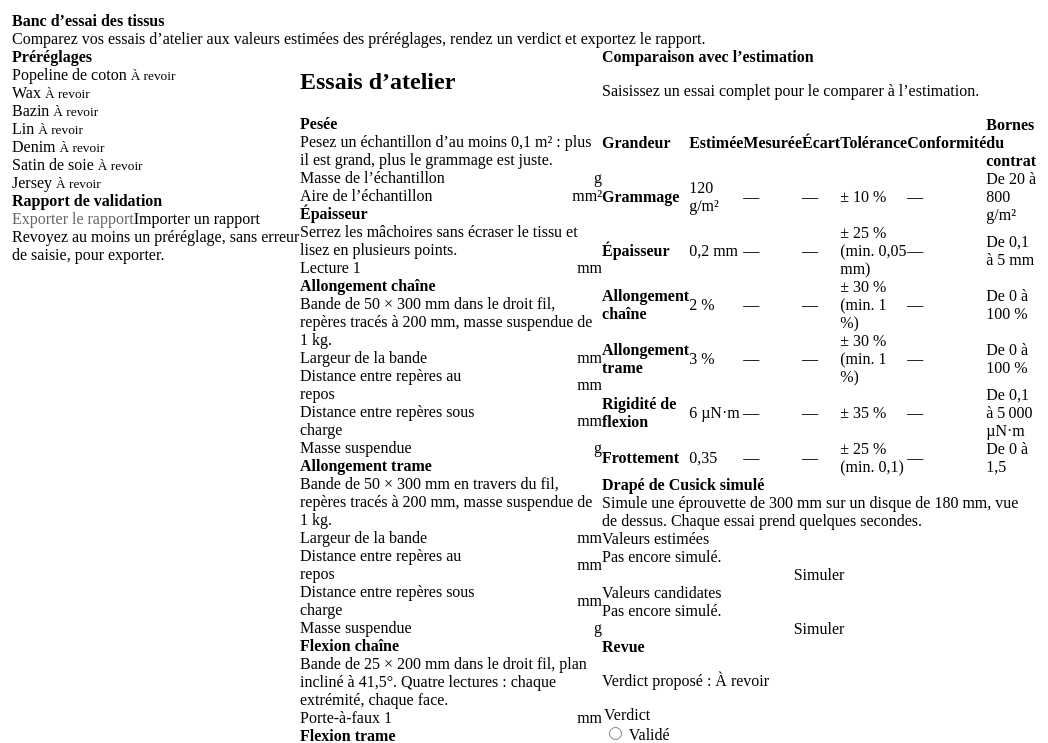
Test: banc d’essai des tissus : essais saisis › champ vidé après essai commencé : valeur obligatoire
Type "12" into the number field labelled "Masse de l’échantillon". click: (542, 178)
box: [494,169,590,187]
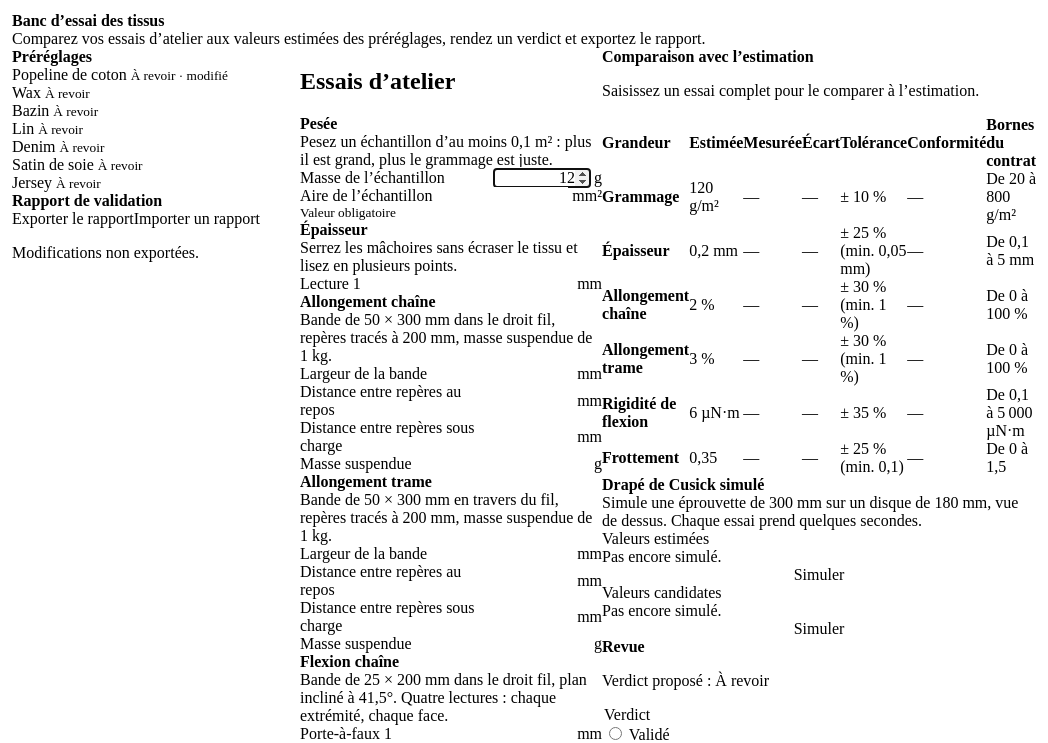
Check: the message "Valeur obligatoire" is shown, box [300,205,396,220]
